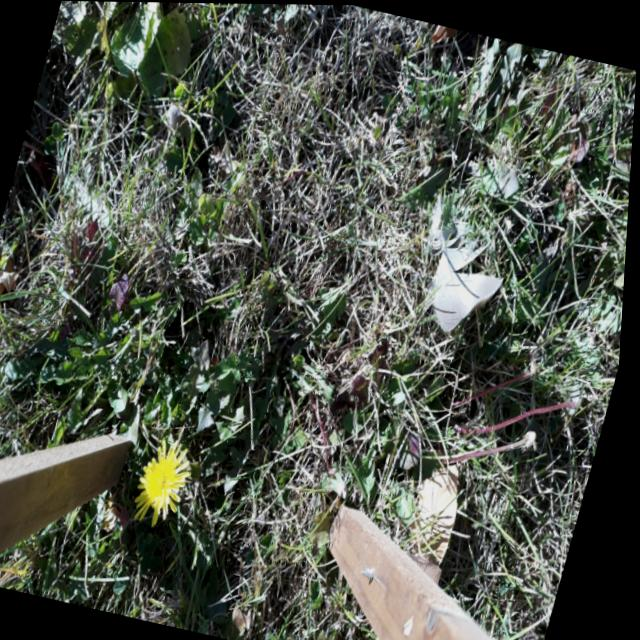flower: (134, 433, 202, 524)
